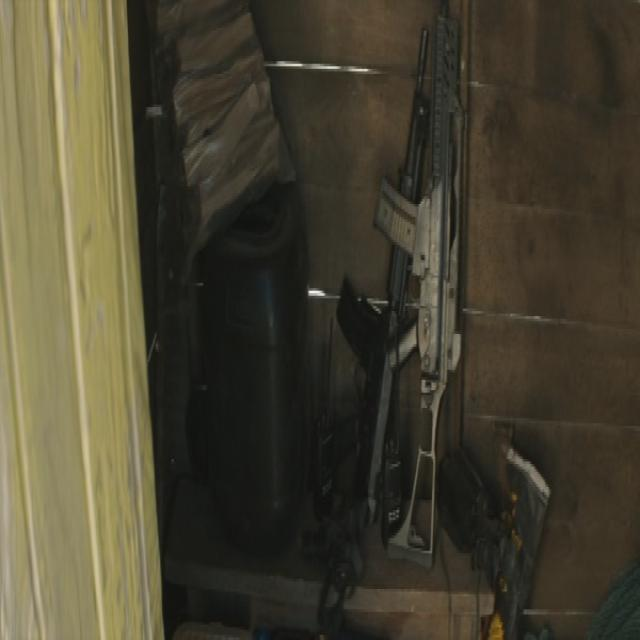rifle: (372, 1, 467, 585)
